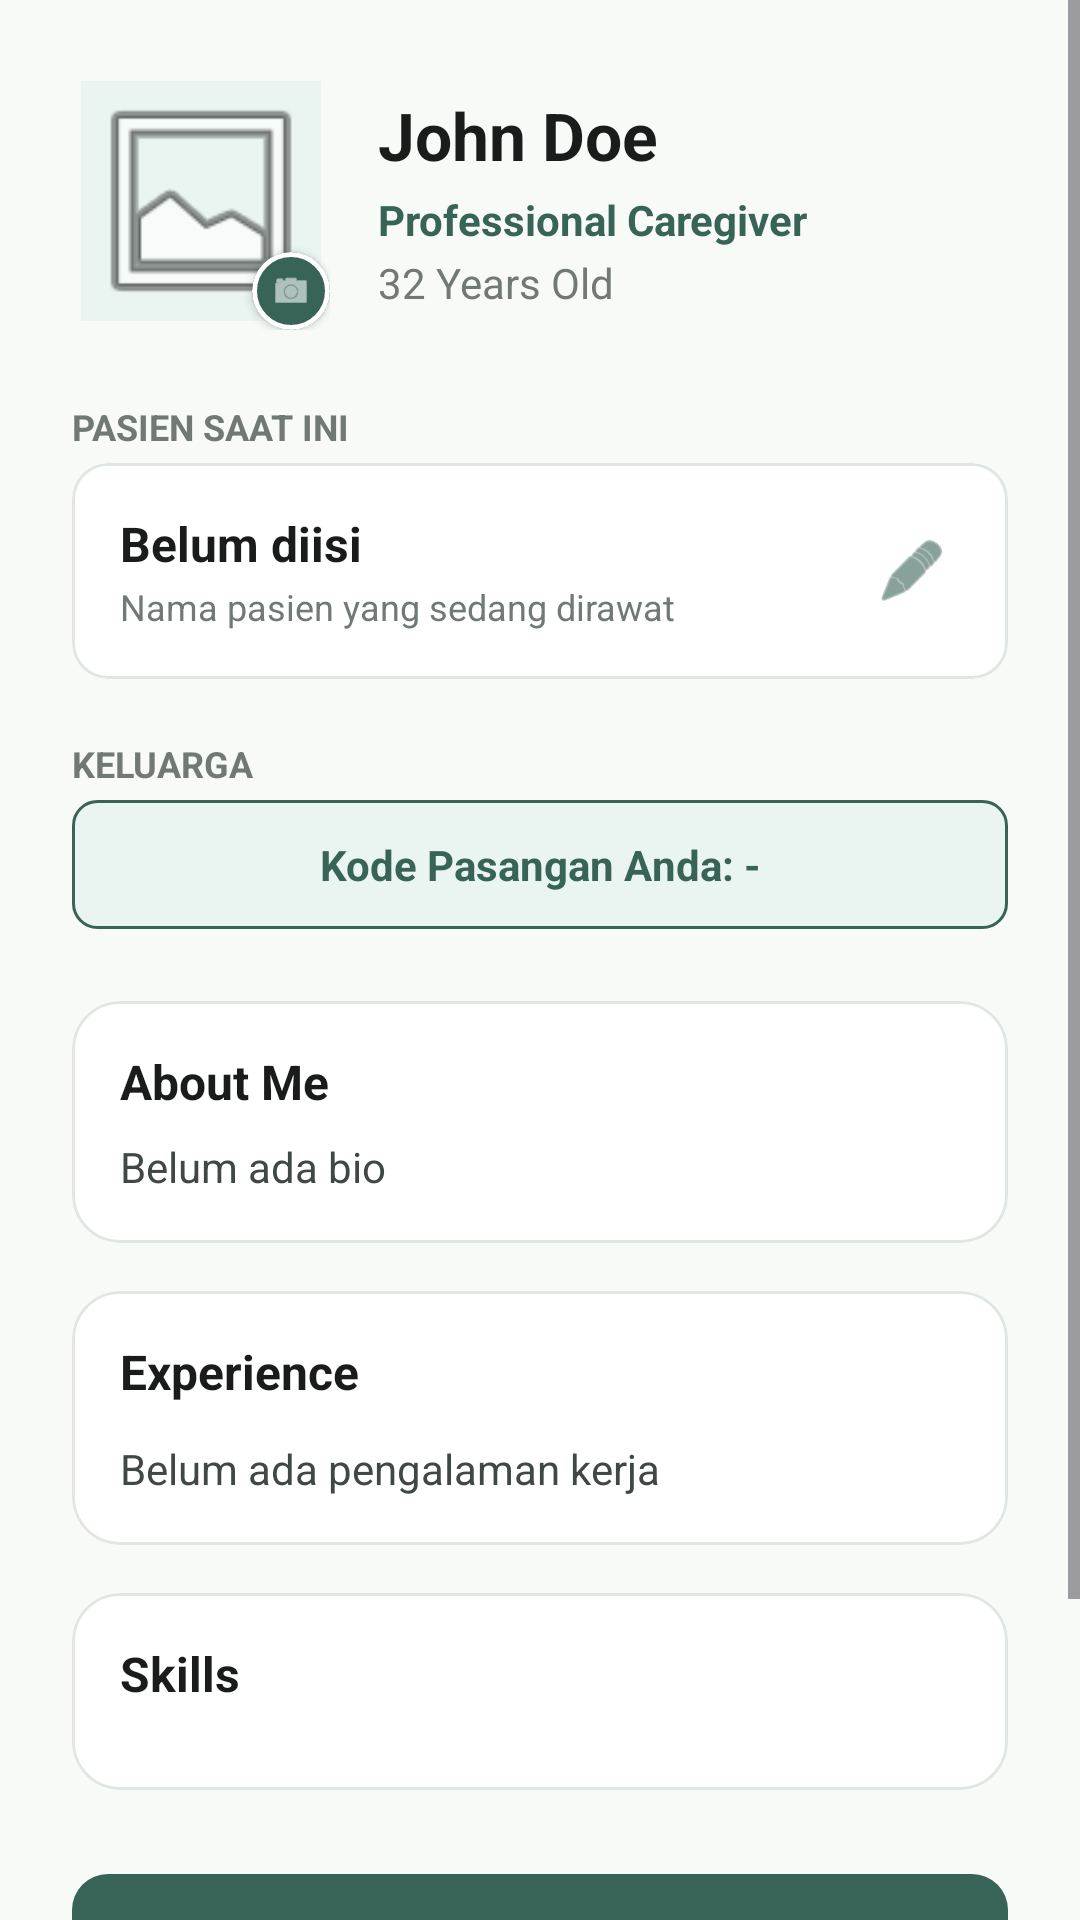

Where icons sit on this 1080w x 1920h app screen, as (x1, y1, x2, y2):
edit: (881, 540, 942, 601)
